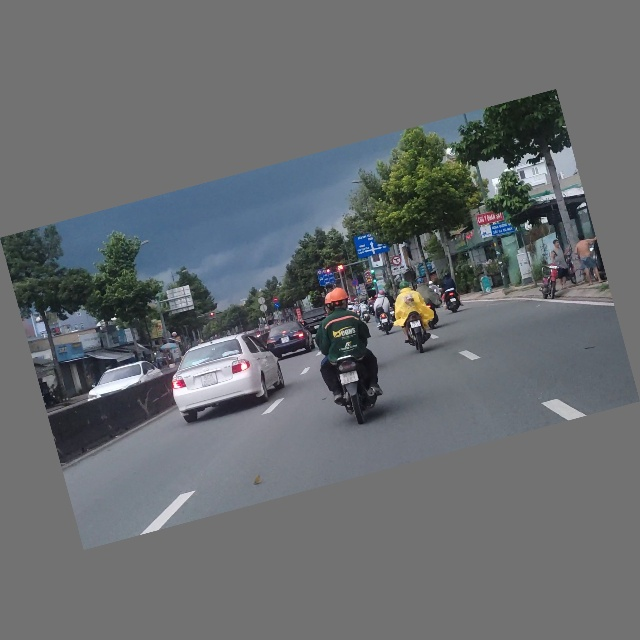P.102: (272, 297, 279, 304)
P.137: (391, 255, 403, 267)
R.302a: (274, 303, 281, 310)
R.415a: (317, 272, 336, 288)
